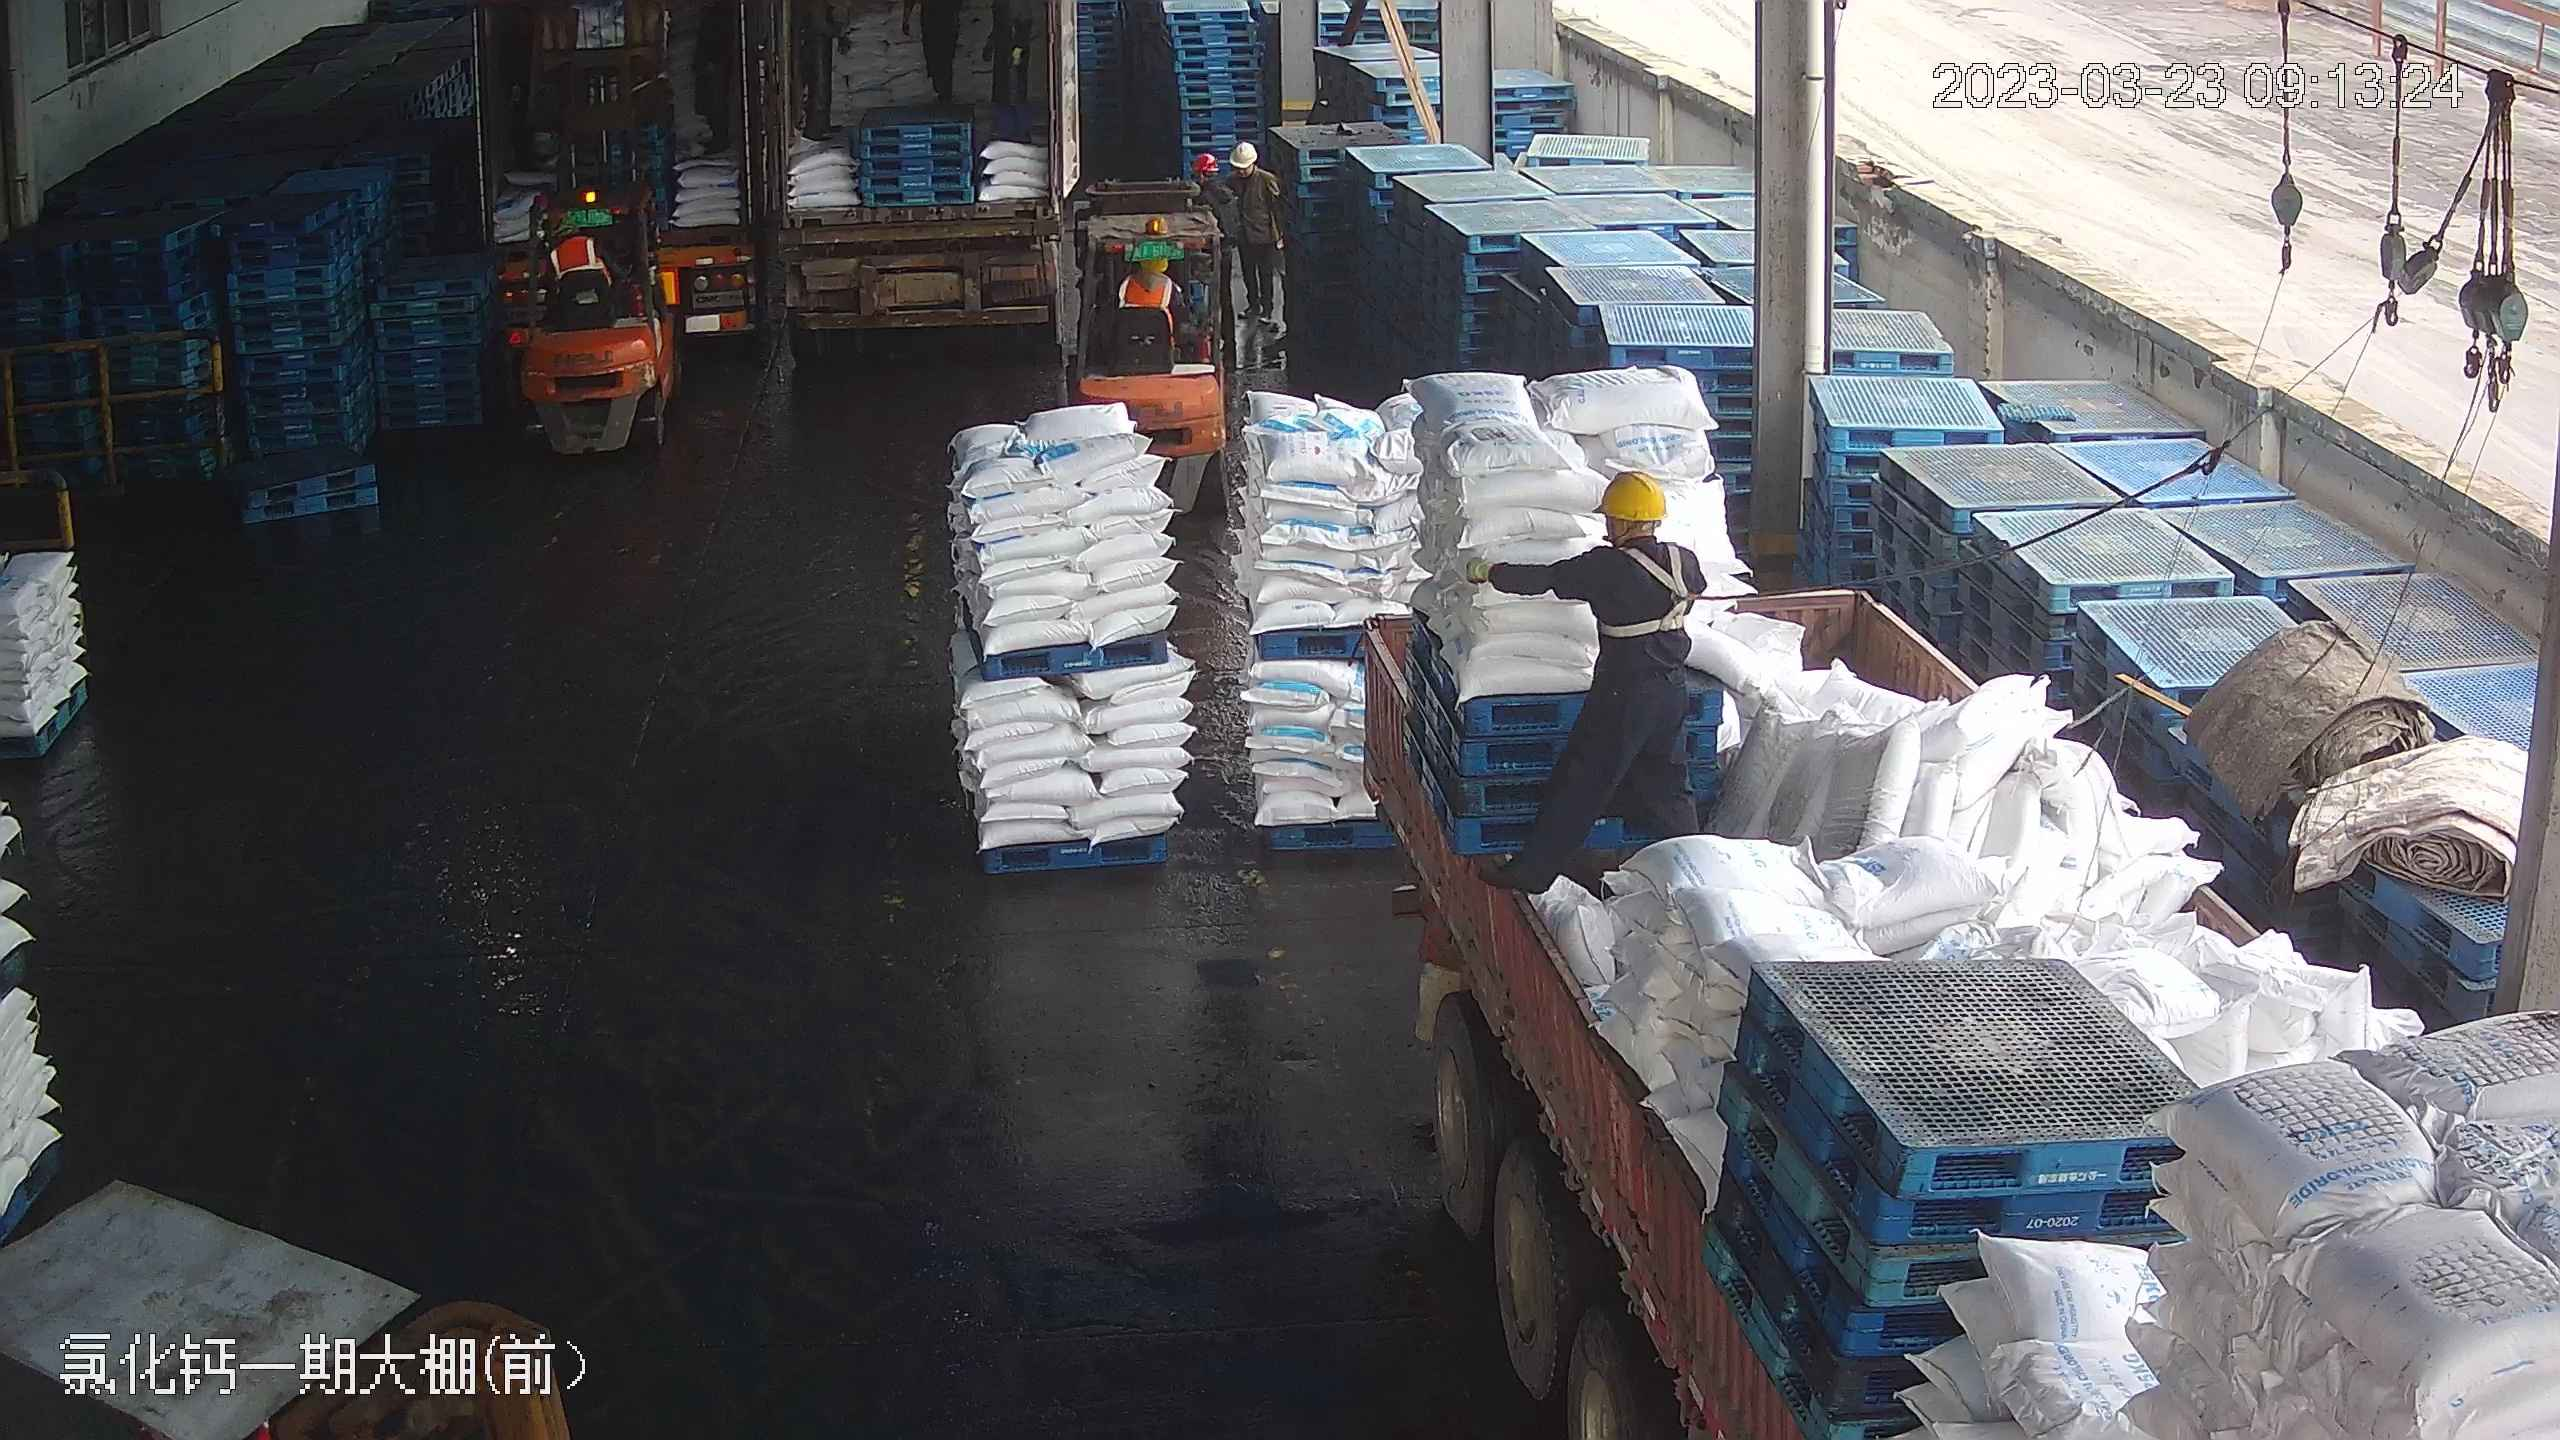belt: (1599, 534, 1711, 642)
head: (1571, 468, 1701, 602), (1115, 241, 1186, 316), (1223, 137, 1281, 210)
helmet: (1595, 468, 1671, 521), (1231, 140, 1259, 168), (1191, 151, 1221, 175)
people: (1460, 465, 1712, 901), (1228, 138, 1291, 325)
truck: (1295, 224, 2523, 1440), (725, 1, 1087, 333), (502, 2, 806, 349)
